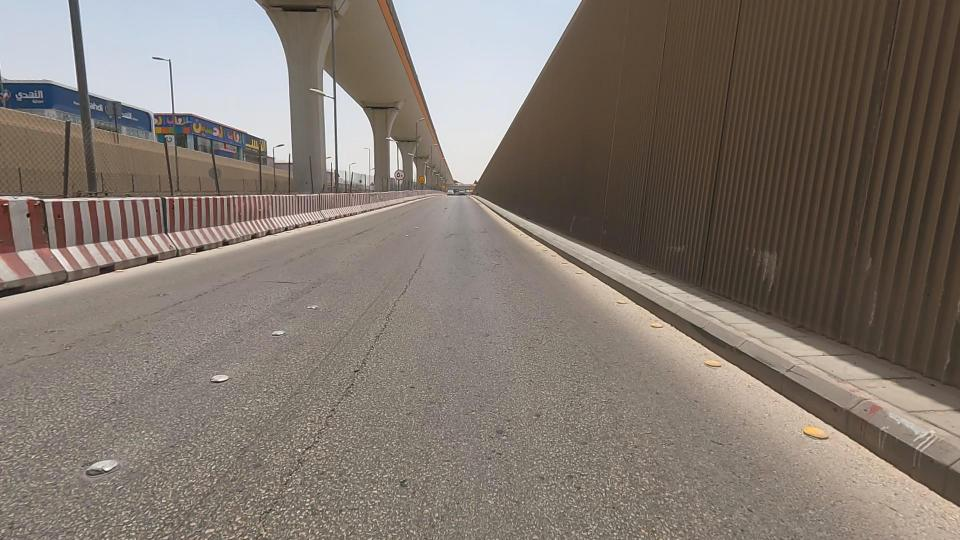CONSTRUCTION_ROAD: (0, 103, 352, 300), (205, 138, 394, 249), (341, 155, 430, 222)
